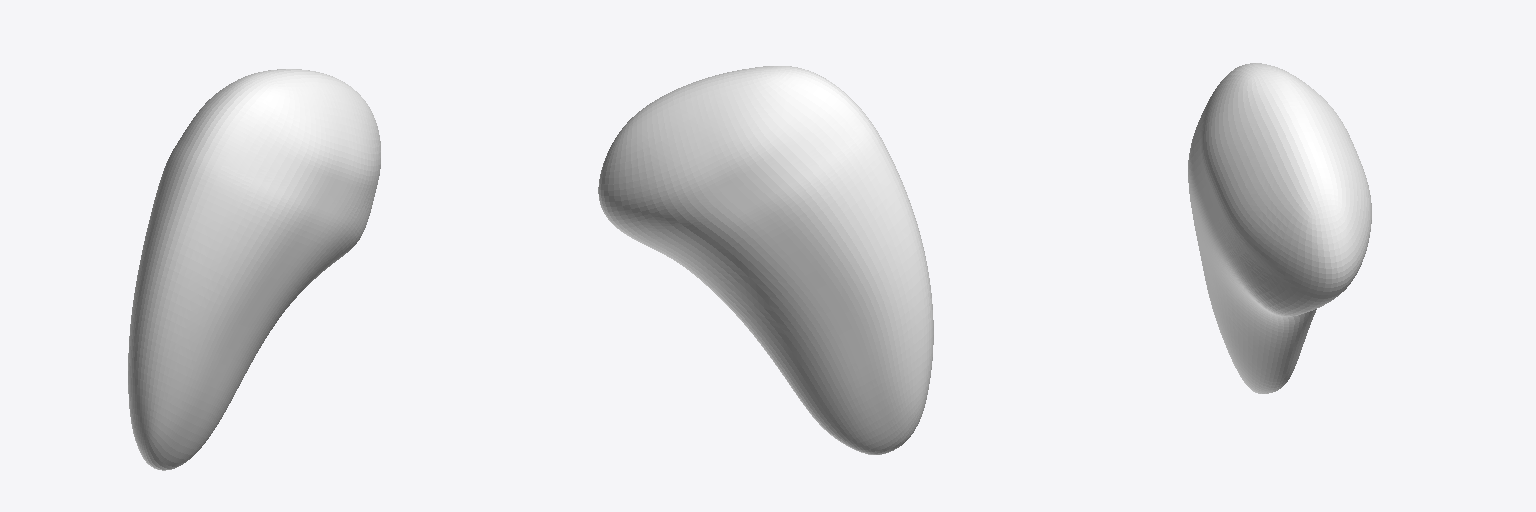
The model's file is BlobB.obj.
3 renders of one model, left to right at view 1: azimuth 30°, elevation 25°; view 2: azimuth 150°, elevation 25°; view 3: azimuth 270°, elevation 25°, orthographic.
Parts seen in each view (by area): view 1: BlobB; view 2: BlobB; view 3: BlobB.
Boxes of the visible parts, <box> form: BlobB: <box>128,69,380,470</box>; BlobB: <box>598,66,933,454</box>; BlobB: <box>1188,63,1371,393</box>.
Bounding box in the file's own units: 764 × 934 × 429.